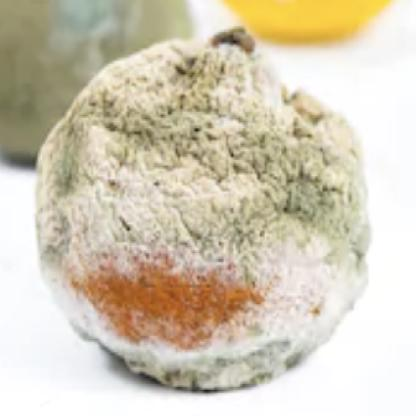rotten: (32, 24, 368, 391)
